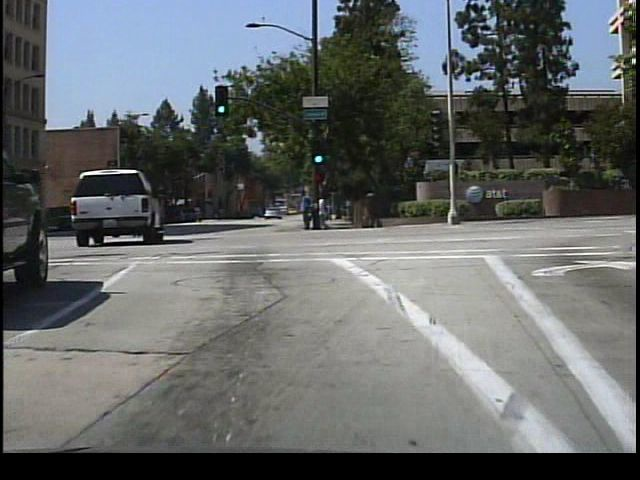person: (296, 183, 315, 232), (314, 191, 332, 231)
